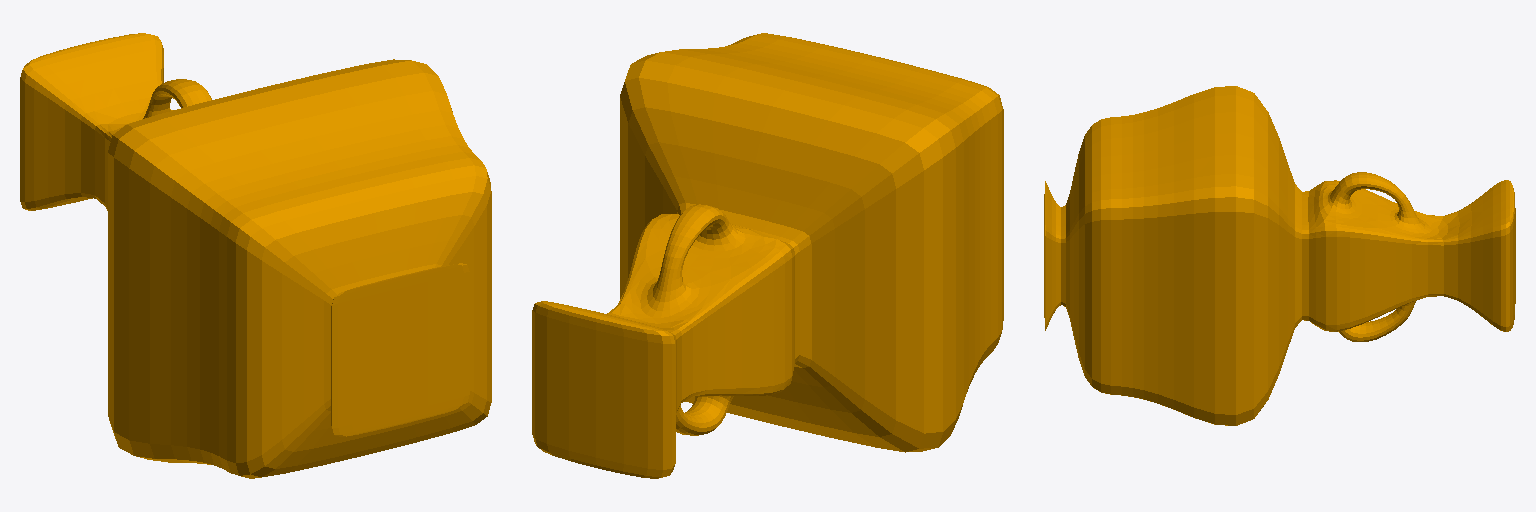
The robot description file, URDF, robot "94":
<?xml version="1.0" ?>
<robot name="94">
  <link name="body">
    <visual>
      <geometry>
        <mesh filename="../shapes/94.obj"/>
      </geometry>
    </visual>
    <collision>
      <geometry>
        <mesh filename="../shapes/94.obj"/>
      </geometry>
    </collision>
  </link>
</robot>

--- Facts derived from the render (not from the file) ---
3 views of the same robot in one strip: view 1: azimuth 30°, elevation 25°; view 2: azimuth 150°, elevation 25°; view 3: azimuth 270°, elevation 25° (orthographic).
Robot: 94 — 1 links, 0 joints (none); root link body; default pose: all joints at 0.
Links seen in each view (by area): view 1: body; view 2: body; view 3: body.
Link boxes in pixels (x1=…): body: x1=20, y1=33, x2=491, y2=478; body: x1=532, y1=33, x2=1003, y2=478; body: x1=1044, y1=86, x2=1515, y2=425.
Size in the robot's own frame: 6.14 by 10.63 by 6.13 metres.
Meshes: 1 distinct files referenced, 1 mesh visuals loaded (1 OBJ).